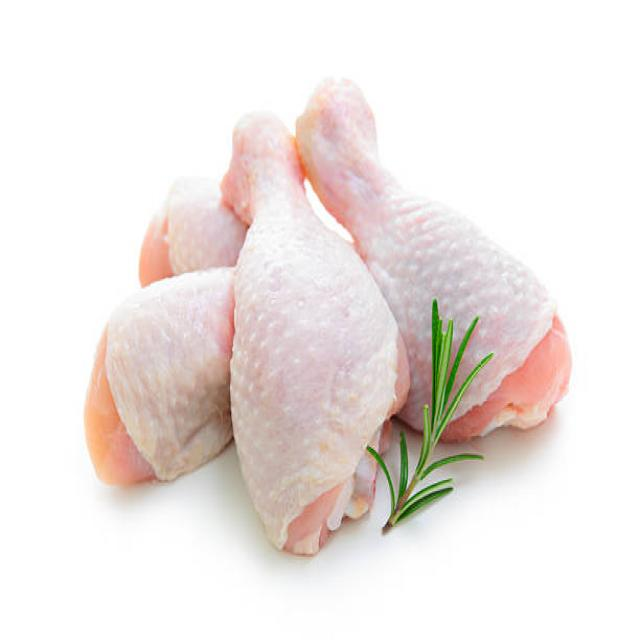chicken wing: (332, 83, 582, 387), (228, 119, 389, 546)
